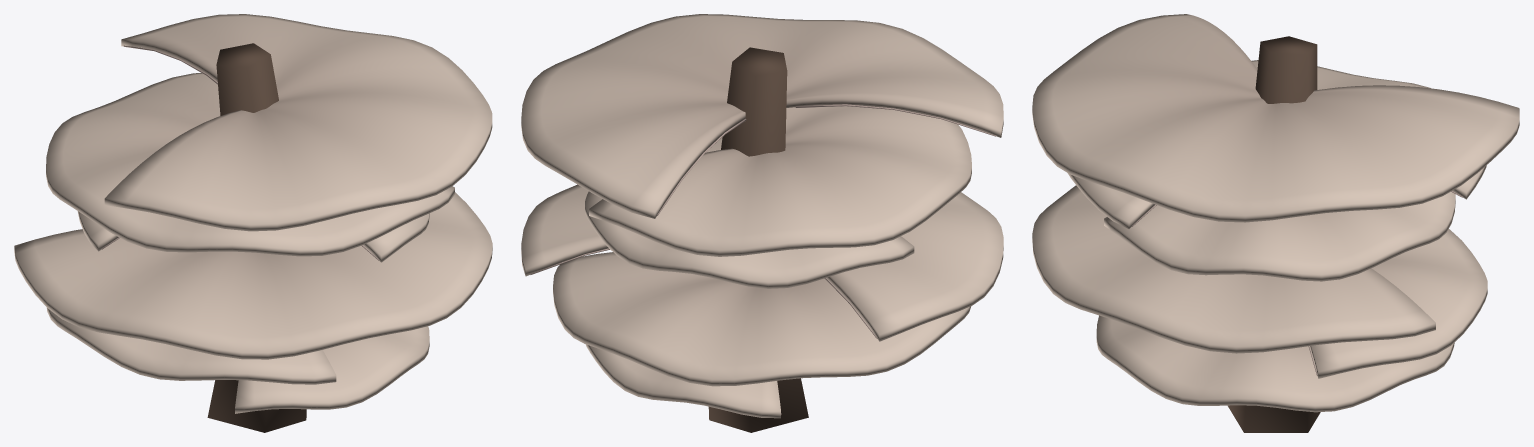
File: enchanted-oyster.glb
3 views of the same model, side by side, from view 1: azimuth 30°, elevation 25°; view 2: azimuth 150°, elevation 25°; view 3: azimuth 270°, elevation 25° (orthographic).
Visible parts, largest first — view 1: enchanted-oyster-sculpted-details; view 2: enchanted-oyster-sculpted-details; view 3: enchanted-oyster-sculpted-details.
Boxes of the visible parts, x1,y1,x2,y2 form: enchanted-oyster-sculpted-details: (14, 14, 492, 432); enchanted-oyster-sculpted-details: (521, 14, 1003, 432); enchanted-oyster-sculpted-details: (1032, 14, 1519, 432).
Size of the model in its own units: 1.2 by 1 by 1.2.
